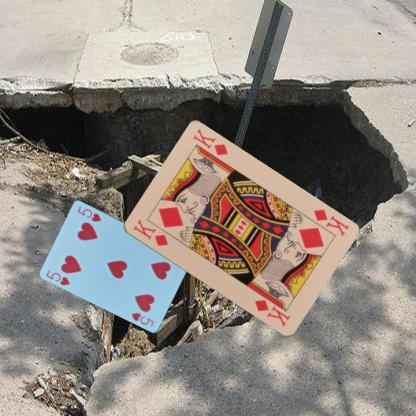5h: (44, 268, 72, 286)
Kd: (310, 206, 350, 238), (130, 217, 169, 248)
